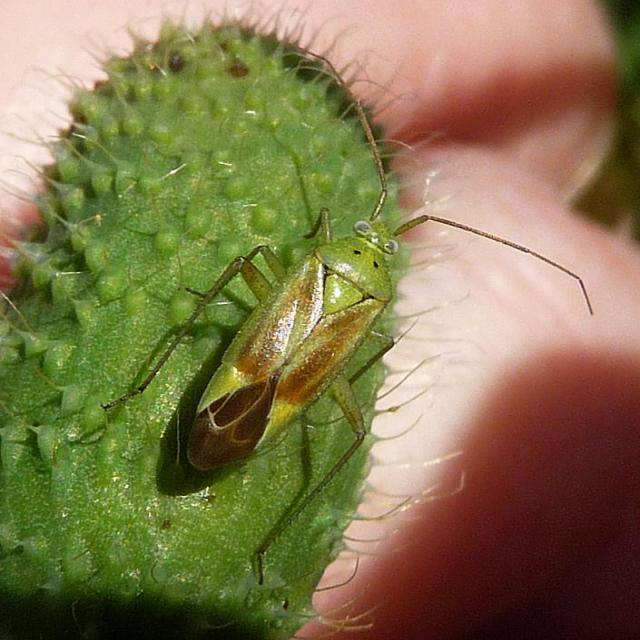Miridae-Adult-: (141, 121, 537, 523)
